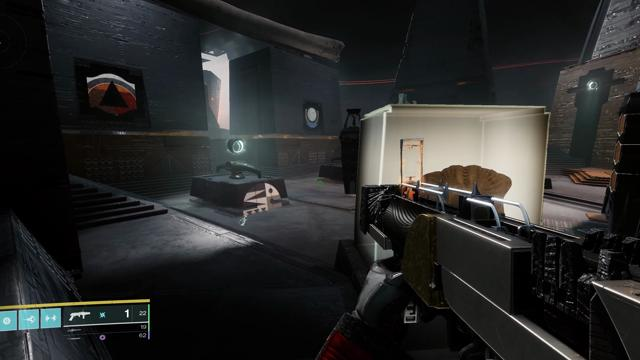pyramid: (86, 73, 137, 115)
traveler: (305, 106, 320, 128)
